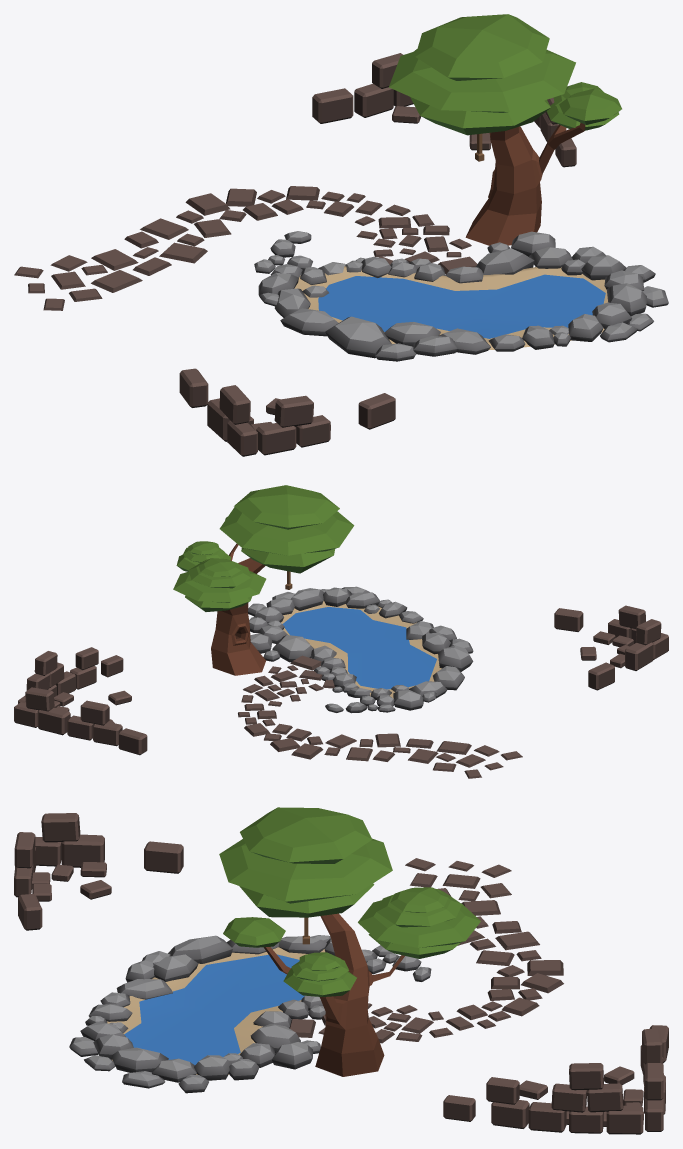
Rendered from static_objects.fbx.
3 views of the same model, one above another, from view 1: azimuth 30°, elevation 25°; view 2: azimuth 150°, elevation 25°; view 3: azimuth 270°, elevation 25° (orthographic). The views are drawn at different scales.
Visible parts, largest first — view 1: static_objects; view 2: static_objects; view 3: static_objects.
Boxes of the visible parts, <box> form: static_objects: <box>14,14,668,456</box>; static_objects: <box>14,485,668,778</box>; static_objects: <box>14,807,668,1134</box>.
Size of what is drawn, in the model's own units: 15.8 by 6.11 by 15.78.
Materials: 1 (1 with a texture image).
